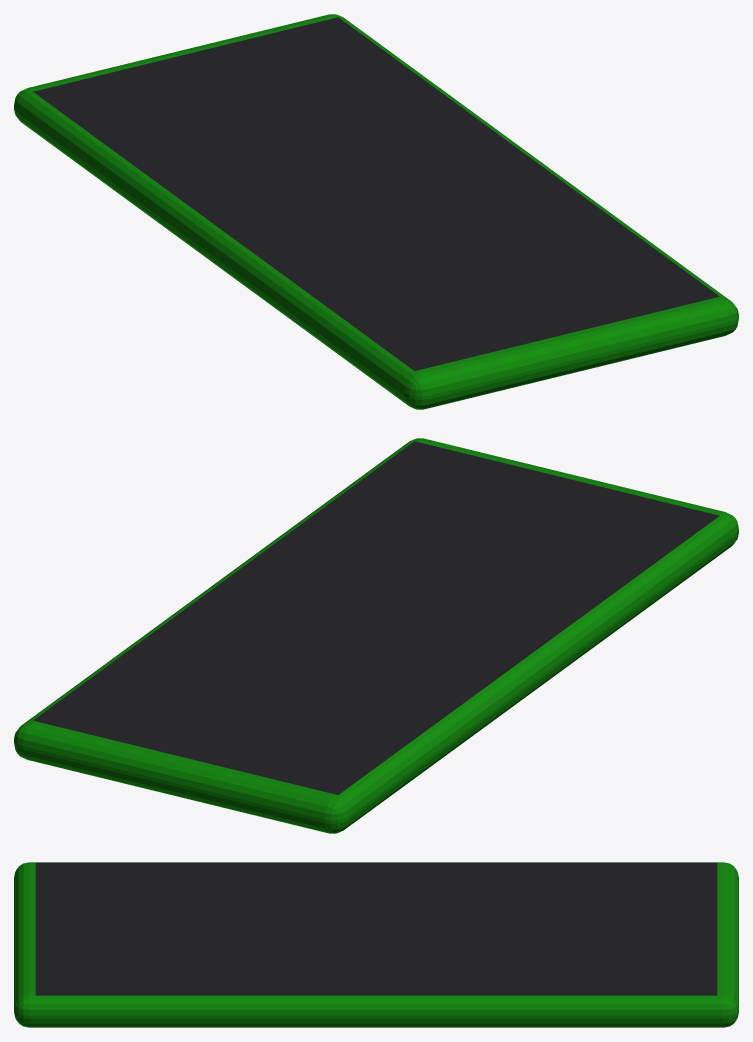
File: Phone_343.glb
3 views of the same model, one above another, from view 1: azimuth 30°, elevation 25°; view 2: azimuth 150°, elevation 25°; view 3: azimuth 270°, elevation 25° (orthographic). The views are drawn at different scales.
Visible parts, largest first — view 1: Phone_Screen, Phone_Body; view 2: Phone_Screen, Phone_Body; view 3: Phone_Screen, Phone_Body.
Boxes of the visible parts, x1=… form: Phone_Screen: x1=33, y1=17, x2=719, y2=370; Phone_Body: x1=14, y1=14, x2=738, y2=409; Phone_Screen: x1=33, y1=441, x2=719, y2=794; Phone_Body: x1=14, y1=438, x2=738, y2=833; Phone_Screen: x1=35, y1=862, x2=717, y2=995; Phone_Body: x1=14, y1=862, x2=738, y2=1027.
Size of the model in its own units: 0.0791 by 0.008 by 0.1676.
